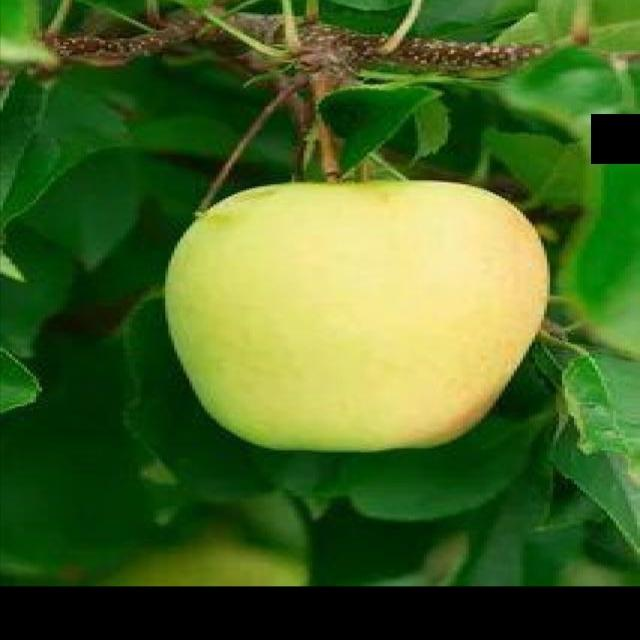green apple: (158, 176, 555, 453)
